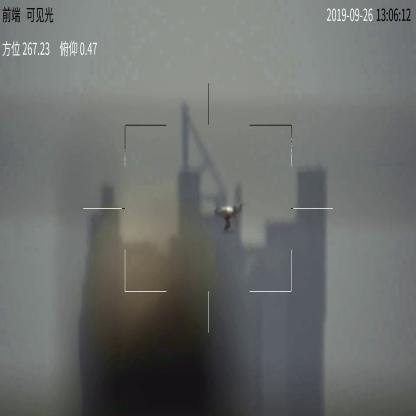uav: (204, 200, 241, 233)
